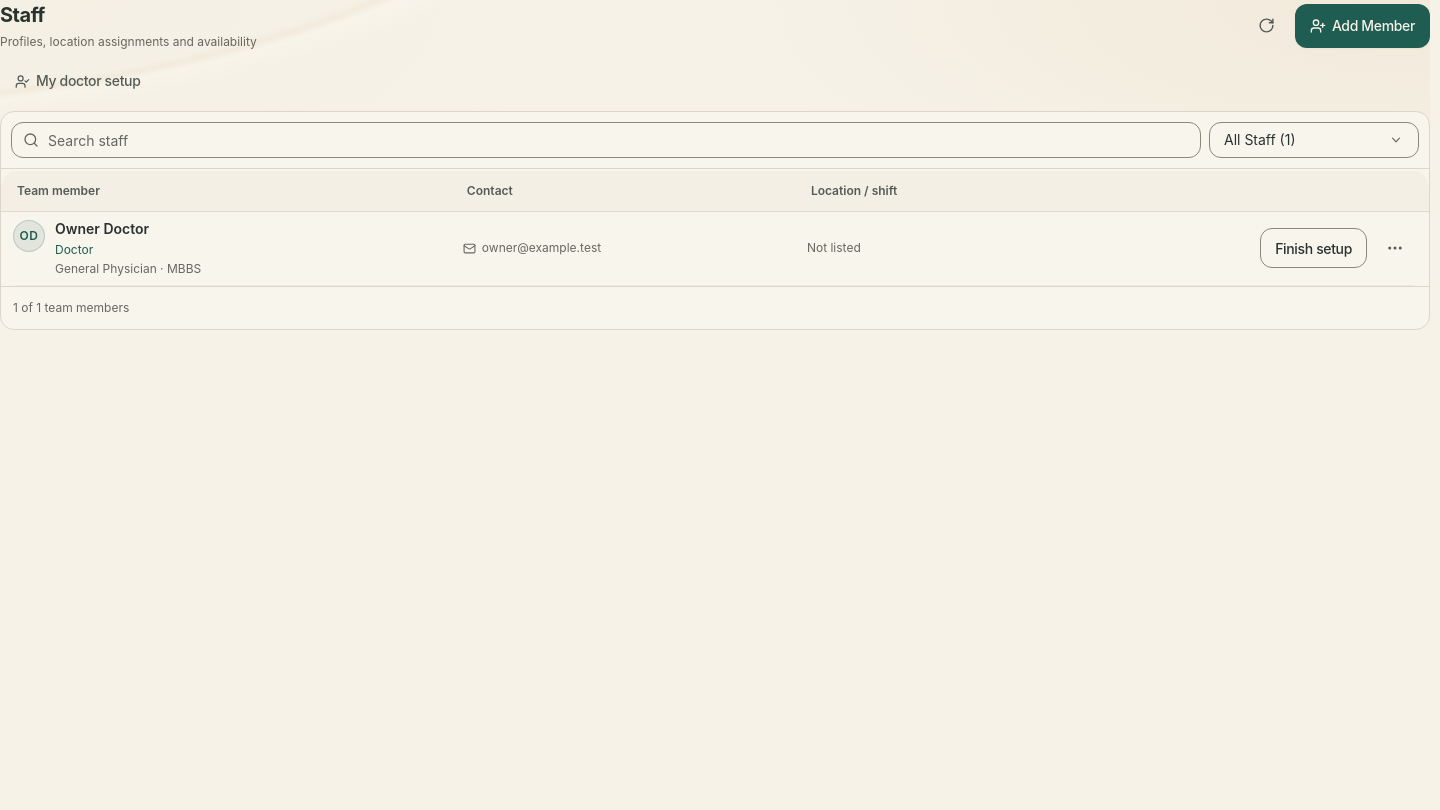
Test case: Guided doctor setup › blocks guessed assignments after a failed read and supports retry
Click the button "My doctor setup". click: (78, 81)
box: 0,63 -> 155,99
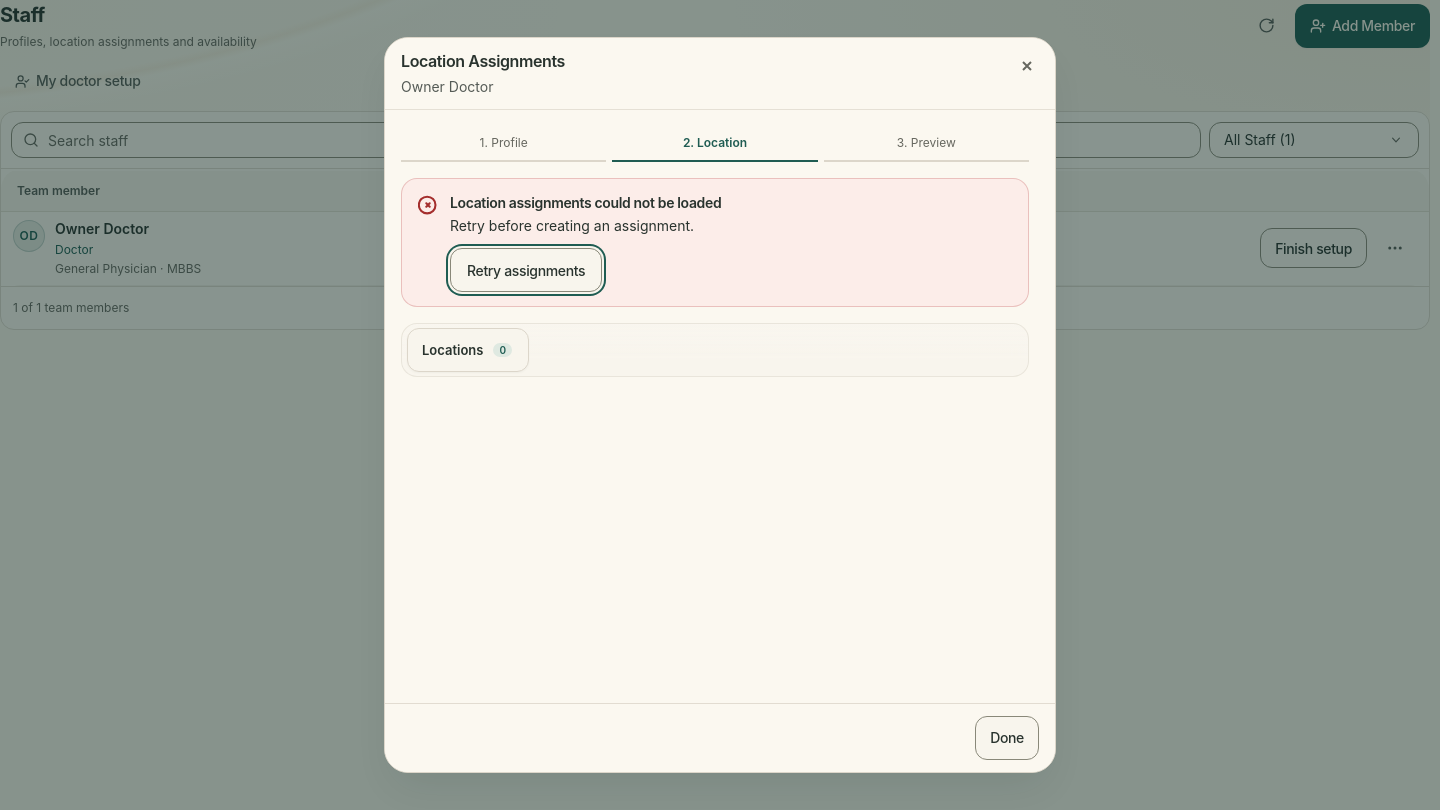
Expected: the button "Assign Location" is not shown
Expected: the text "Location assignments could not be loaded" is shown, 450,194 -> 721,211
Click the button "Retry assignments". click: (526, 270)
box: 450,248 -> 602,292
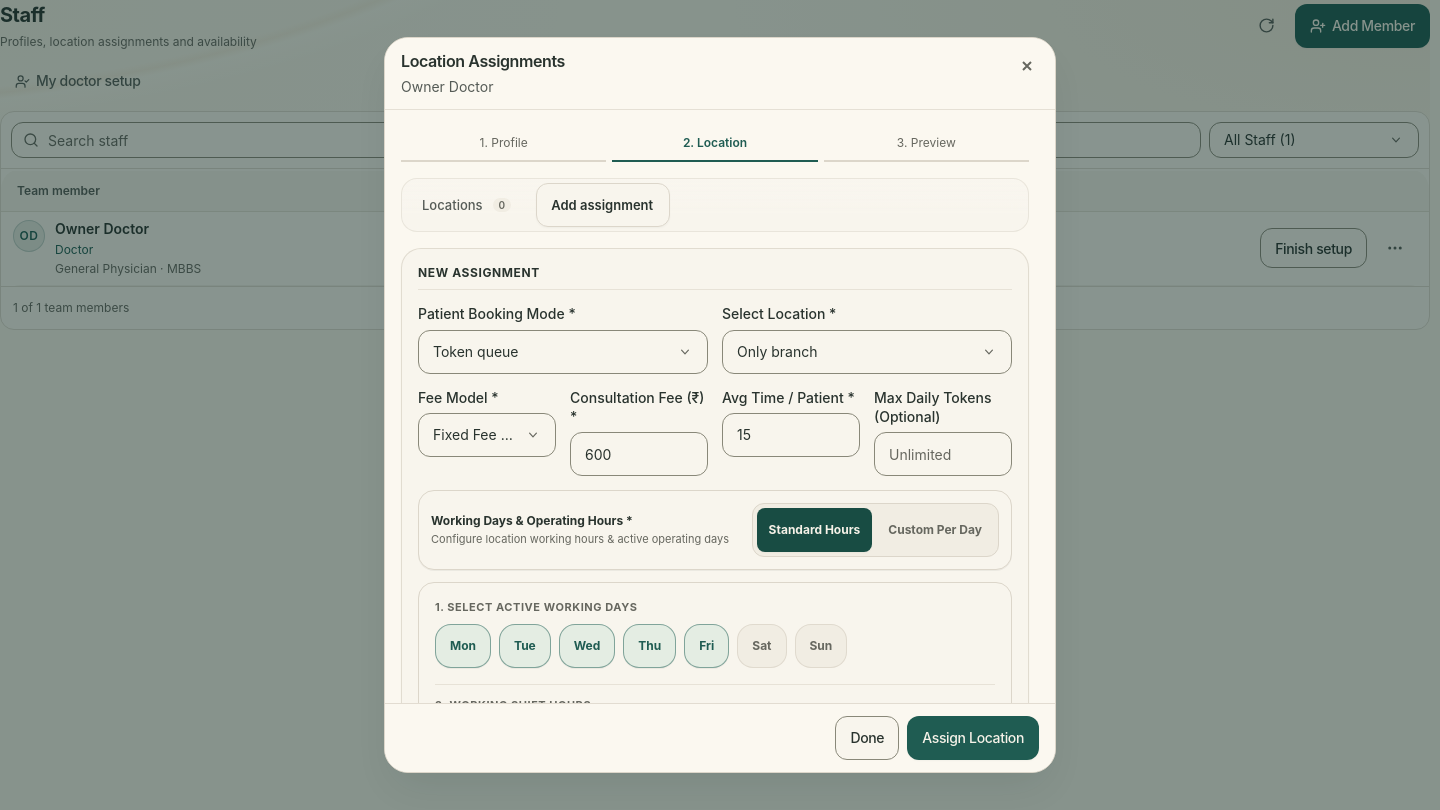
Expected: the button "Assign Location" is shown, 907,716 -> 1039,760
